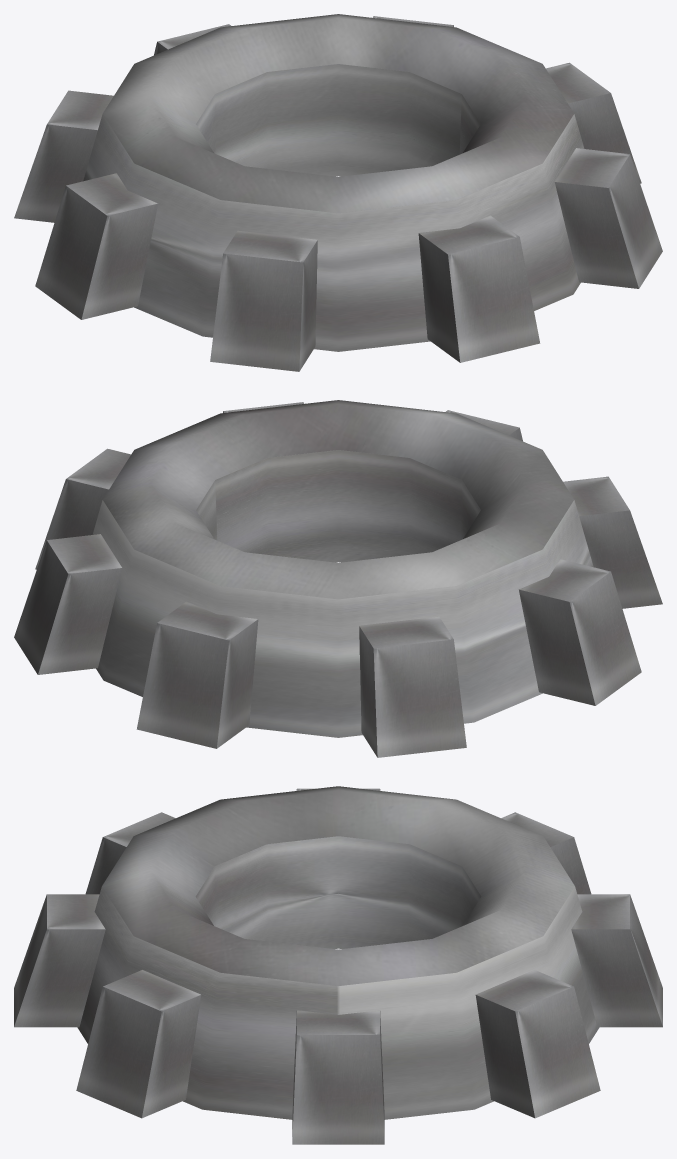
Rendered from static.fbx.
The picture shows the model from 3 angles, top to bottom: view 1: azimuth 30°, elevation 25°; view 2: azimuth 150°, elevation 25°; view 3: azimuth 270°, elevation 25°; orthographic projection.
Parts seen in each view (by area): view 1: Tube, Cube_4, Cube_5, Cube_6, Cube_3, Cube_7, Cube_2, Cube_0; view 2: Tube, Cube_0, Cube_7, Cube_6, Cube_1, Cube_5, Cube_2, Cube_4; view 3: Tube, Cube_1, Cube_3, Cube_2, Cube_0, Cube_4, Cube_5, Cube_7.
Boxes of the visible parts, box(x1,y1,x2,y2) form: Tube: box(83, 14, 584, 351); Cube_4: box(418, 215, 540, 362); Cube_5: box(210, 230, 317, 371); Cube_6: box(35, 173, 158, 319); Cube_3: box(554, 148, 662, 288); Cube_7: box(14, 90, 113, 222); Cube_2: box(546, 62, 641, 183); Cube_0: box(154, 24, 230, 55); Tube: box(92, 400, 593, 737); Cube_0: box(136, 601, 258, 748); Cube_7: box(359, 616, 466, 757); Cube_6: box(518, 559, 641, 705); Cube_1: box(14, 534, 122, 674); Cube_5: box(563, 476, 662, 608); Cube_2: box(35, 448, 130, 569); Cube_4: box(446, 410, 522, 441); Tube: box(77, 786, 599, 1119); Cube_1: box(475, 970, 600, 1118); Cube_3: box(76, 970, 201, 1118); Cube_2: box(292, 1010, 384, 1144); Cube_0: box(571, 894, 662, 1027); Cube_4: box(14, 894, 105, 1027); Cube_5: box(85, 812, 175, 894); Cube_7: box(501, 812, 591, 894).
Size of the model in its own units: 81.33 by 19.37 by 81.33.
1 material, 1 textured.
